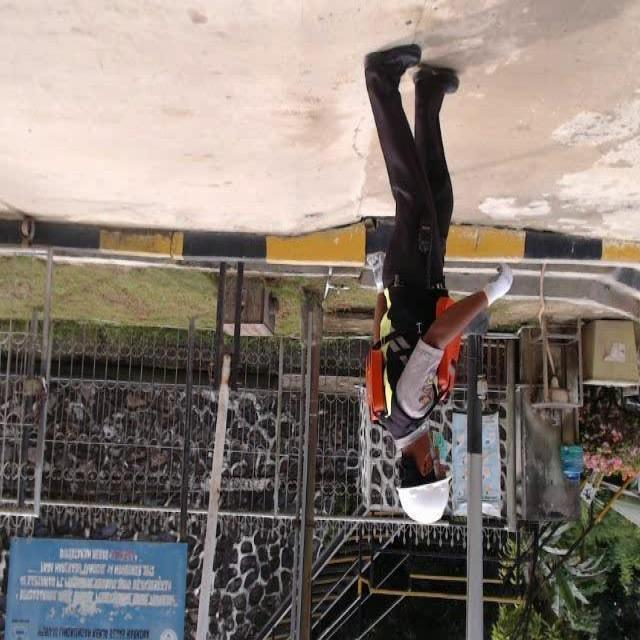Boots: (361, 34, 422, 82), (413, 63, 462, 97)
Gloves: (366, 249, 398, 297), (481, 263, 517, 305)
Helmet: (397, 469, 456, 529)
Vest: (366, 292, 466, 436)
